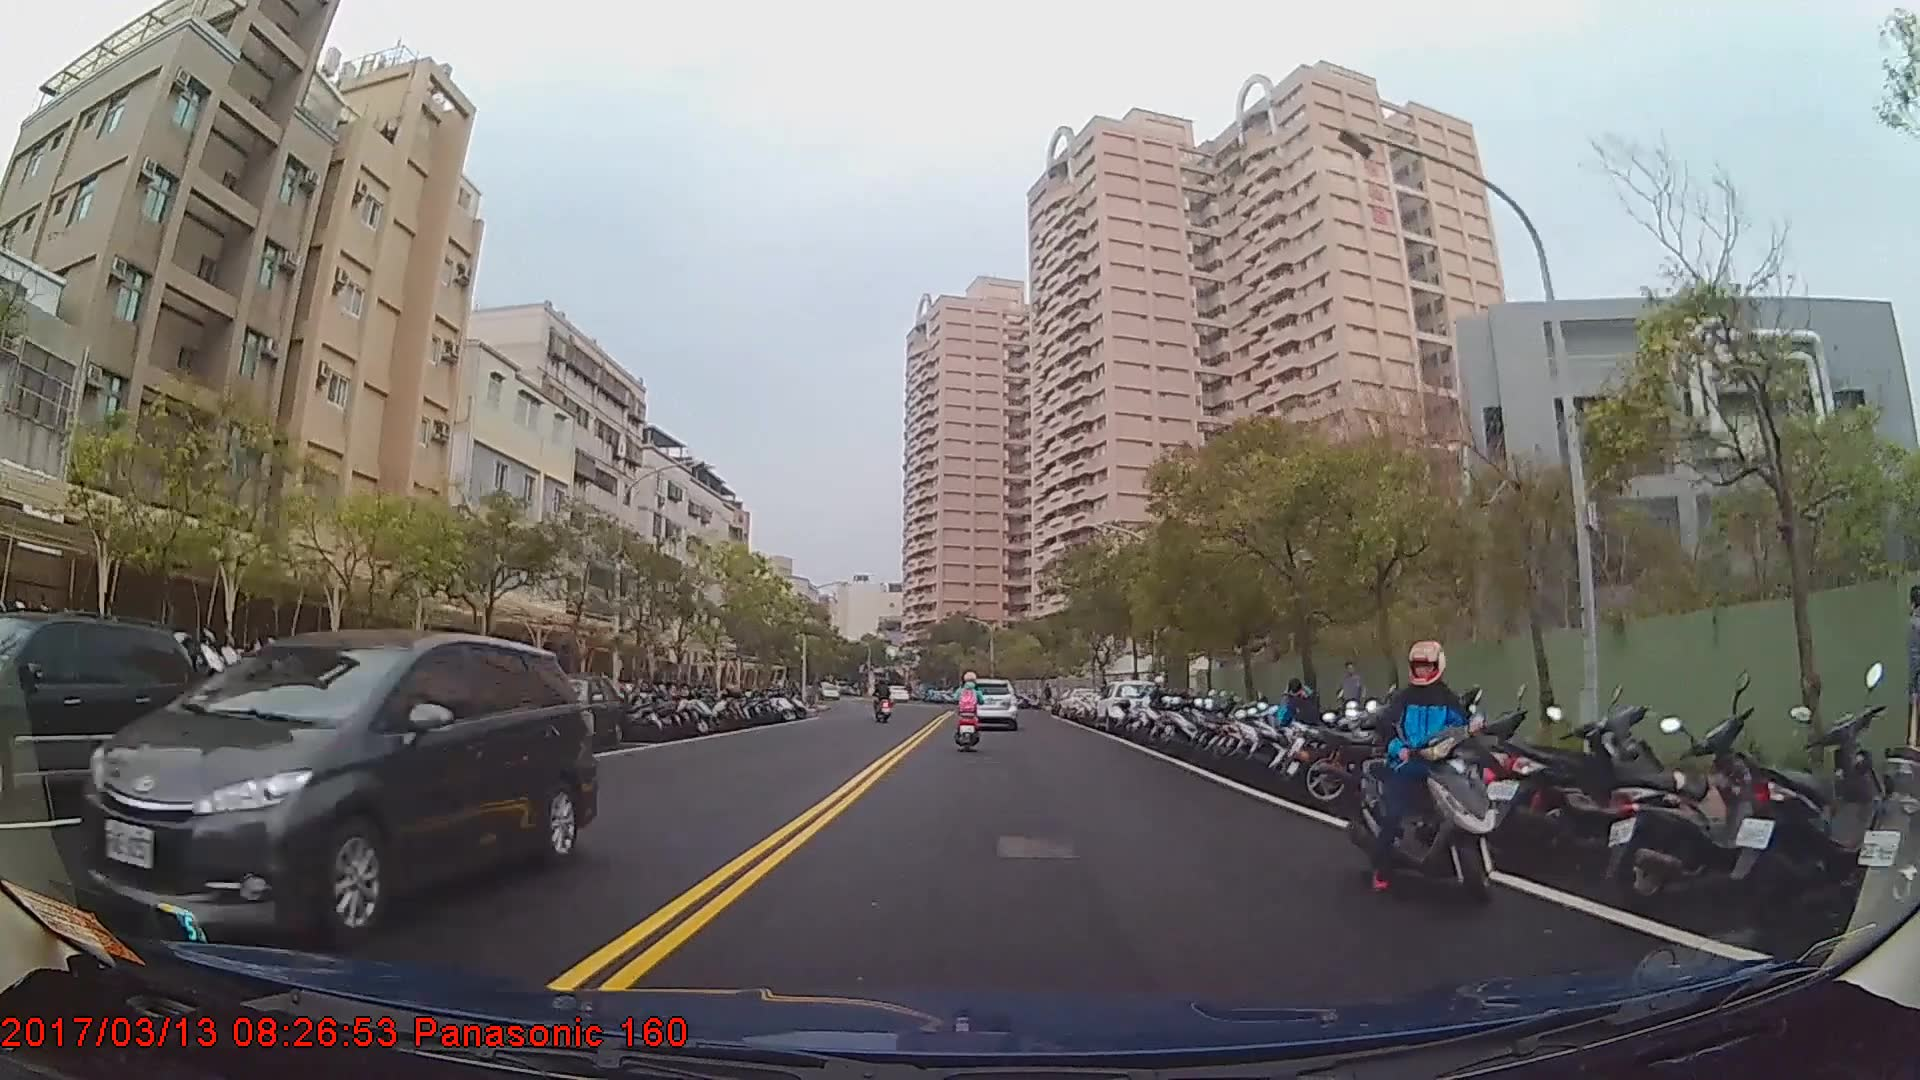pedestrian: (1275, 679, 1324, 775), (1334, 663, 1371, 749)
rider: (1360, 635, 1496, 904), (952, 673, 985, 751), (873, 680, 893, 723)
vehicle: (75, 626, 598, 939), (0, 608, 203, 805), (534, 671, 629, 752), (1094, 678, 1168, 734), (962, 675, 1018, 726)
